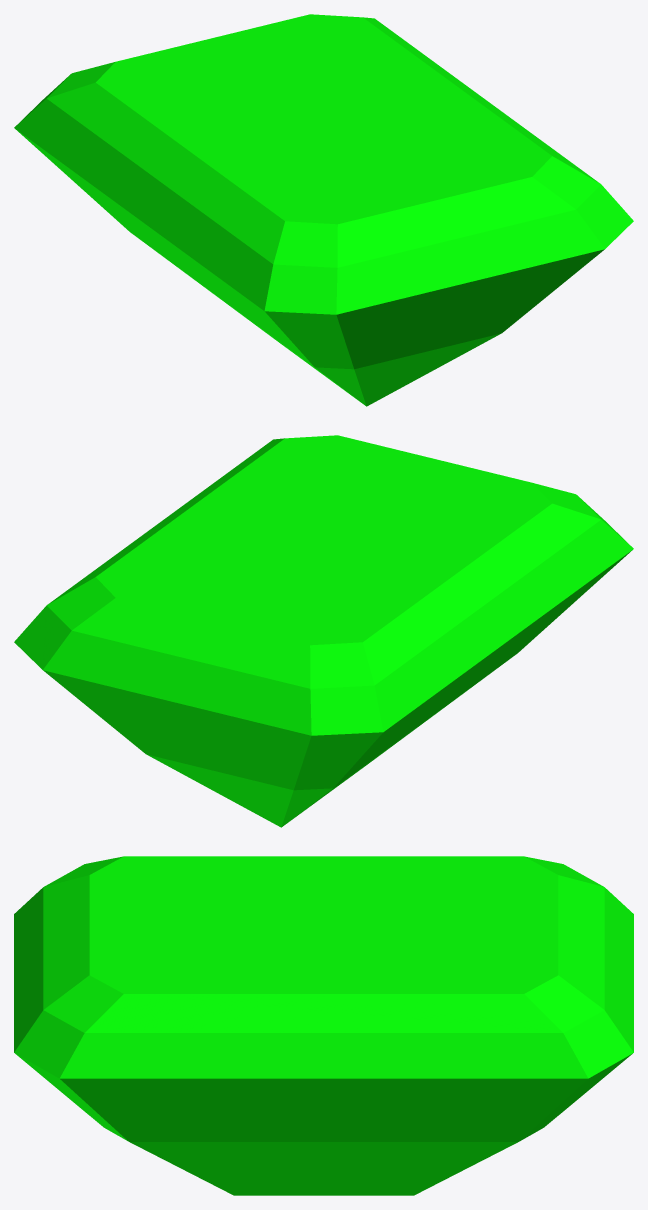
The model's file is emerald2.glb.
3 renders of one model, top to bottom at view 1: azimuth 30°, elevation 25°; view 2: azimuth 150°, elevation 25°; view 3: azimuth 270°, elevation 25°, orthographic. The views are drawn at different scales.
Parts seen in each view (by area): view 1: Emerald; view 2: Emerald; view 3: Emerald.
Boxes of the visible parts, box(x1,y1,x2,y2) form: Emerald: box(14, 14, 633, 406); Emerald: box(14, 435, 633, 827); Emerald: box(14, 856, 633, 1195).
Size of what is drawn, in the model's own units: 0.844 by 0.5591 by 1.16.
